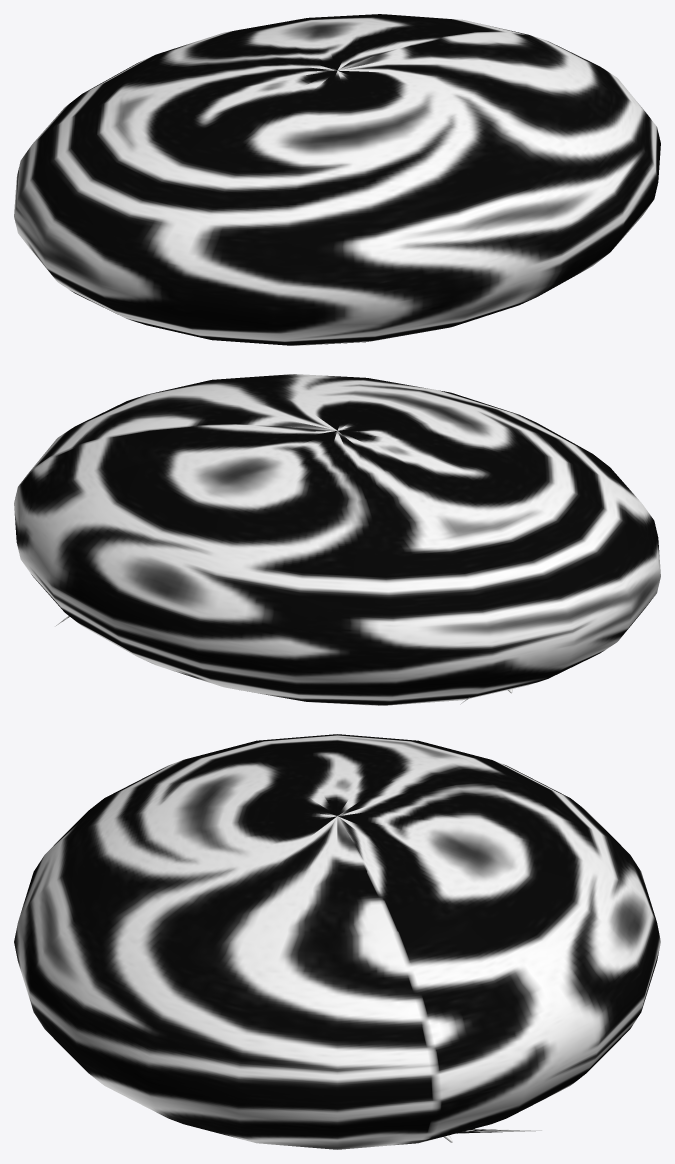
File: GoodVibe-shield.fbx
3 renders of one model, top to bottom at view 1: azimuth 30°, elevation 25°; view 2: azimuth 150°, elevation 25°; view 3: azimuth 270°, elevation 25°, orthographic. The views are drawn at different scales.
Visible parts, largest first — view 1: pSphere2; view 2: pSphere2; view 3: pSphere2.
Part boxes in pixels (x1,y1,x2,y2): pSphere2: (14, 14, 660, 345); pSphere2: (14, 374, 660, 705); pSphere2: (14, 734, 660, 1149).
Size of the model in its own units: 17.6 by 6.24 by 14.54.
3 materials, 2 textured.
